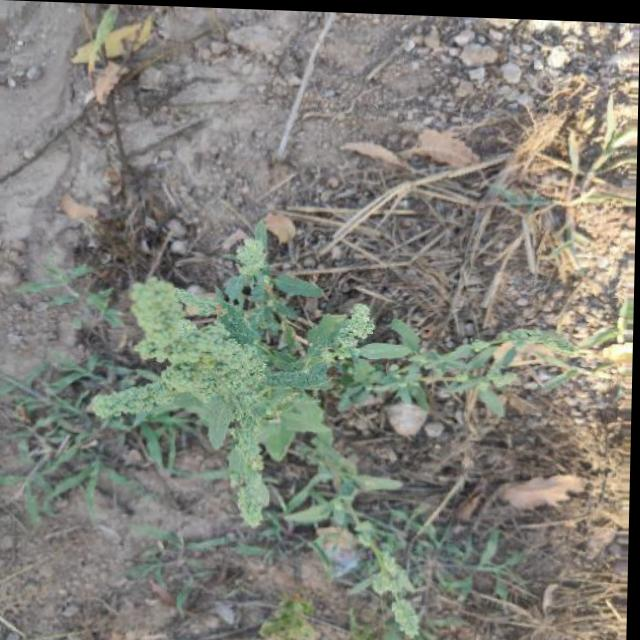weed: (86, 250, 483, 637)
